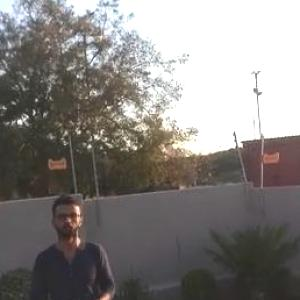follow: (28, 185, 122, 299)
